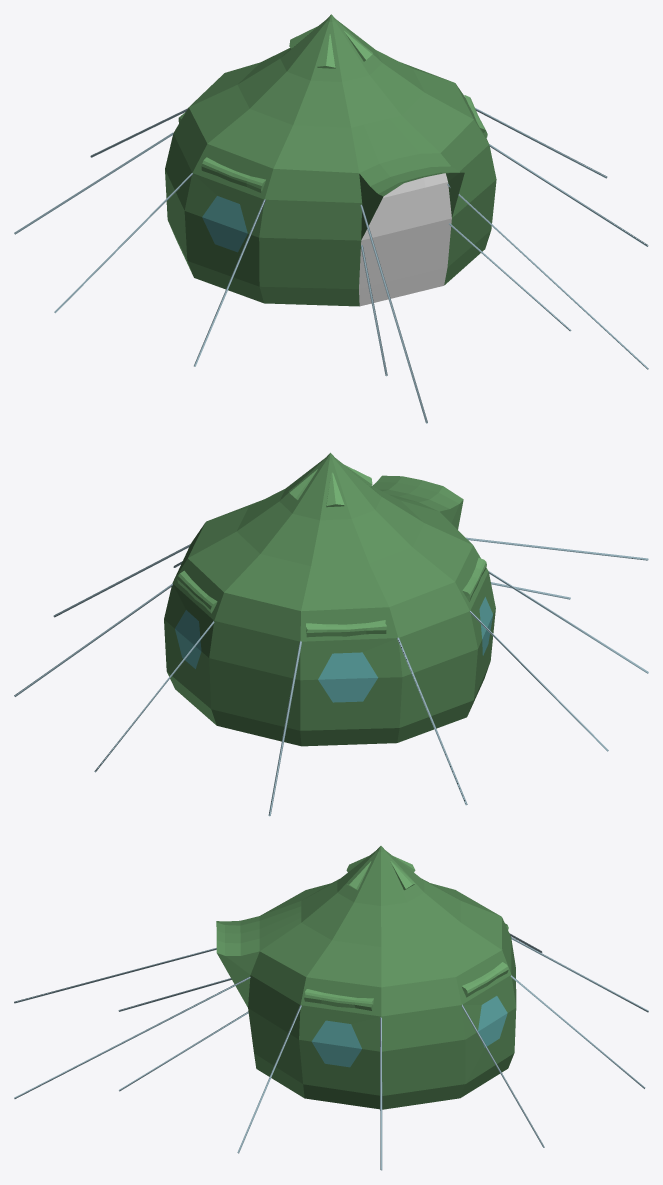
Rendered from Tent_Medium_02.fbx.
The picture shows the model from 3 angles, top to bottom: view 1: azimuth 30°, elevation 25°; view 2: azimuth 150°, elevation 25°; view 3: azimuth 270°, elevation 25°; orthographic projection. The views are drawn at different scales.
Parts seen in each view (by area): view 1: Tent_Base, Door; view 2: Tent_Base; view 3: Tent_Base.
Part boxes in pixels (box(x1,y1,x2,y2)): Tent_Base: box(14, 14, 648, 423); Door: box(359, 173, 451, 306); Tent_Base: box(14, 452, 648, 816); Tent_Base: box(14, 846, 648, 1170).
Size of the model in its own units: 10.85 by 4.39 by 12.13.
